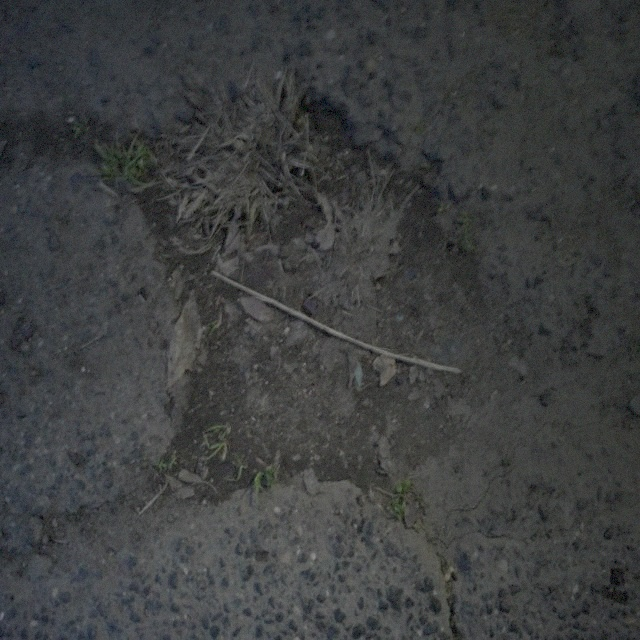pothole: (124, 69, 534, 514)
